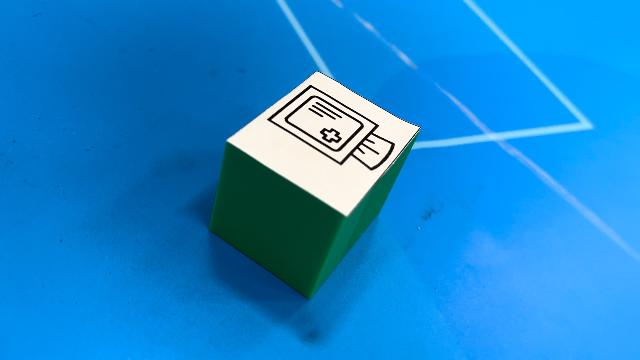napkin: (208, 69, 422, 300)
